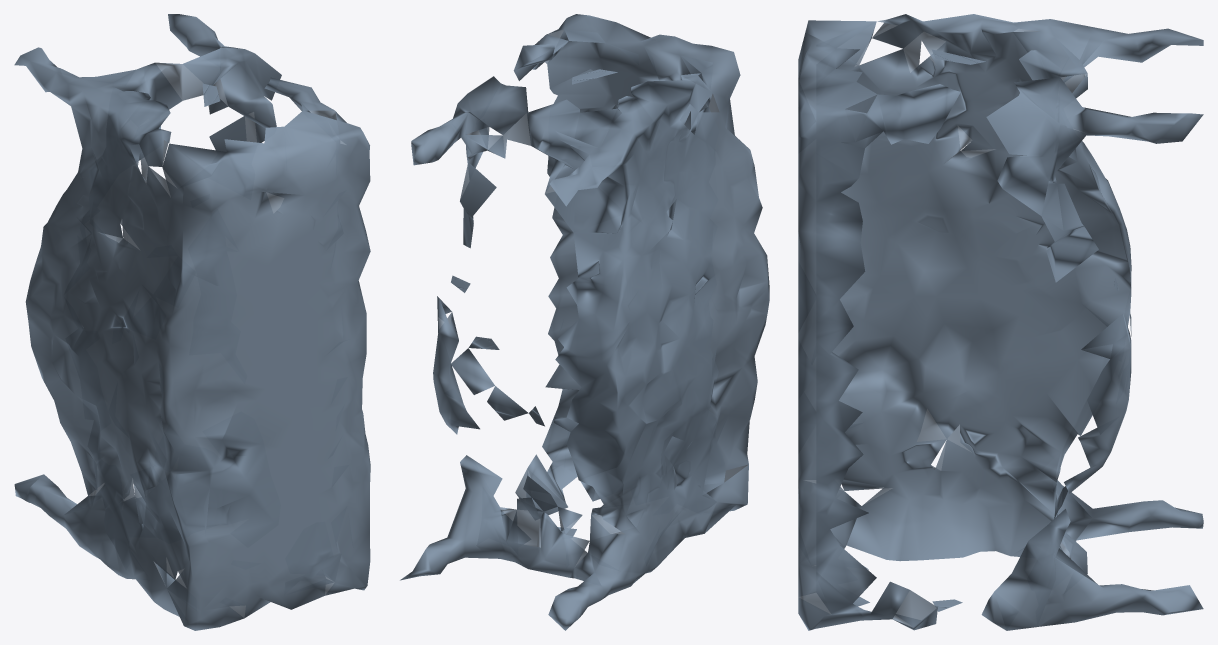
File: dresser_0135_original.obj
3 views of the same model, side by side, from view 1: azimuth 30°, elevation 25°; view 2: azimuth 150°, elevation 25°; view 3: azimuth 270°, elevation 25° (orthographic). The views are drawn at different scales.
Bounding box in the file's own units: 0.664 × 1.46 × 1.01.
